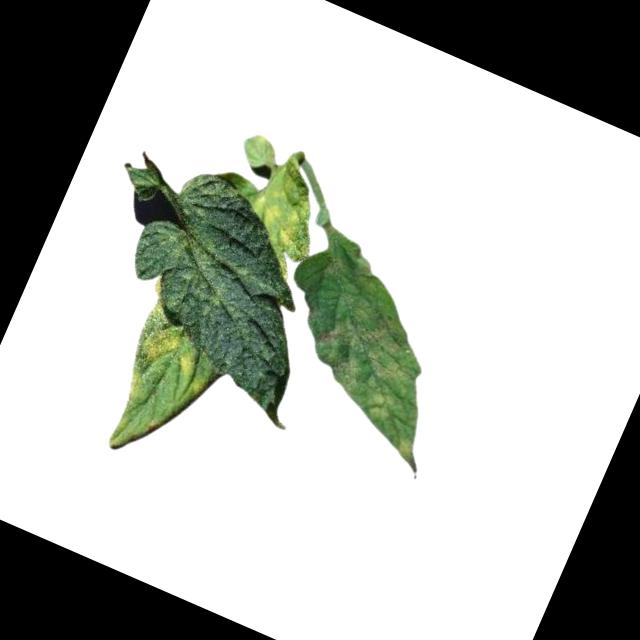Leaf_Mold: (276, 242, 486, 474), (230, 159, 333, 279), (131, 315, 207, 382), (118, 367, 157, 406), (184, 375, 209, 403)
